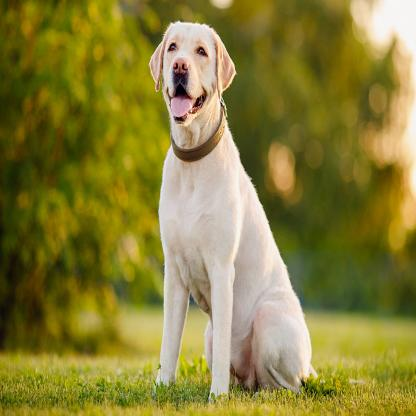Labarador Retriever: (148, 21, 317, 403)
